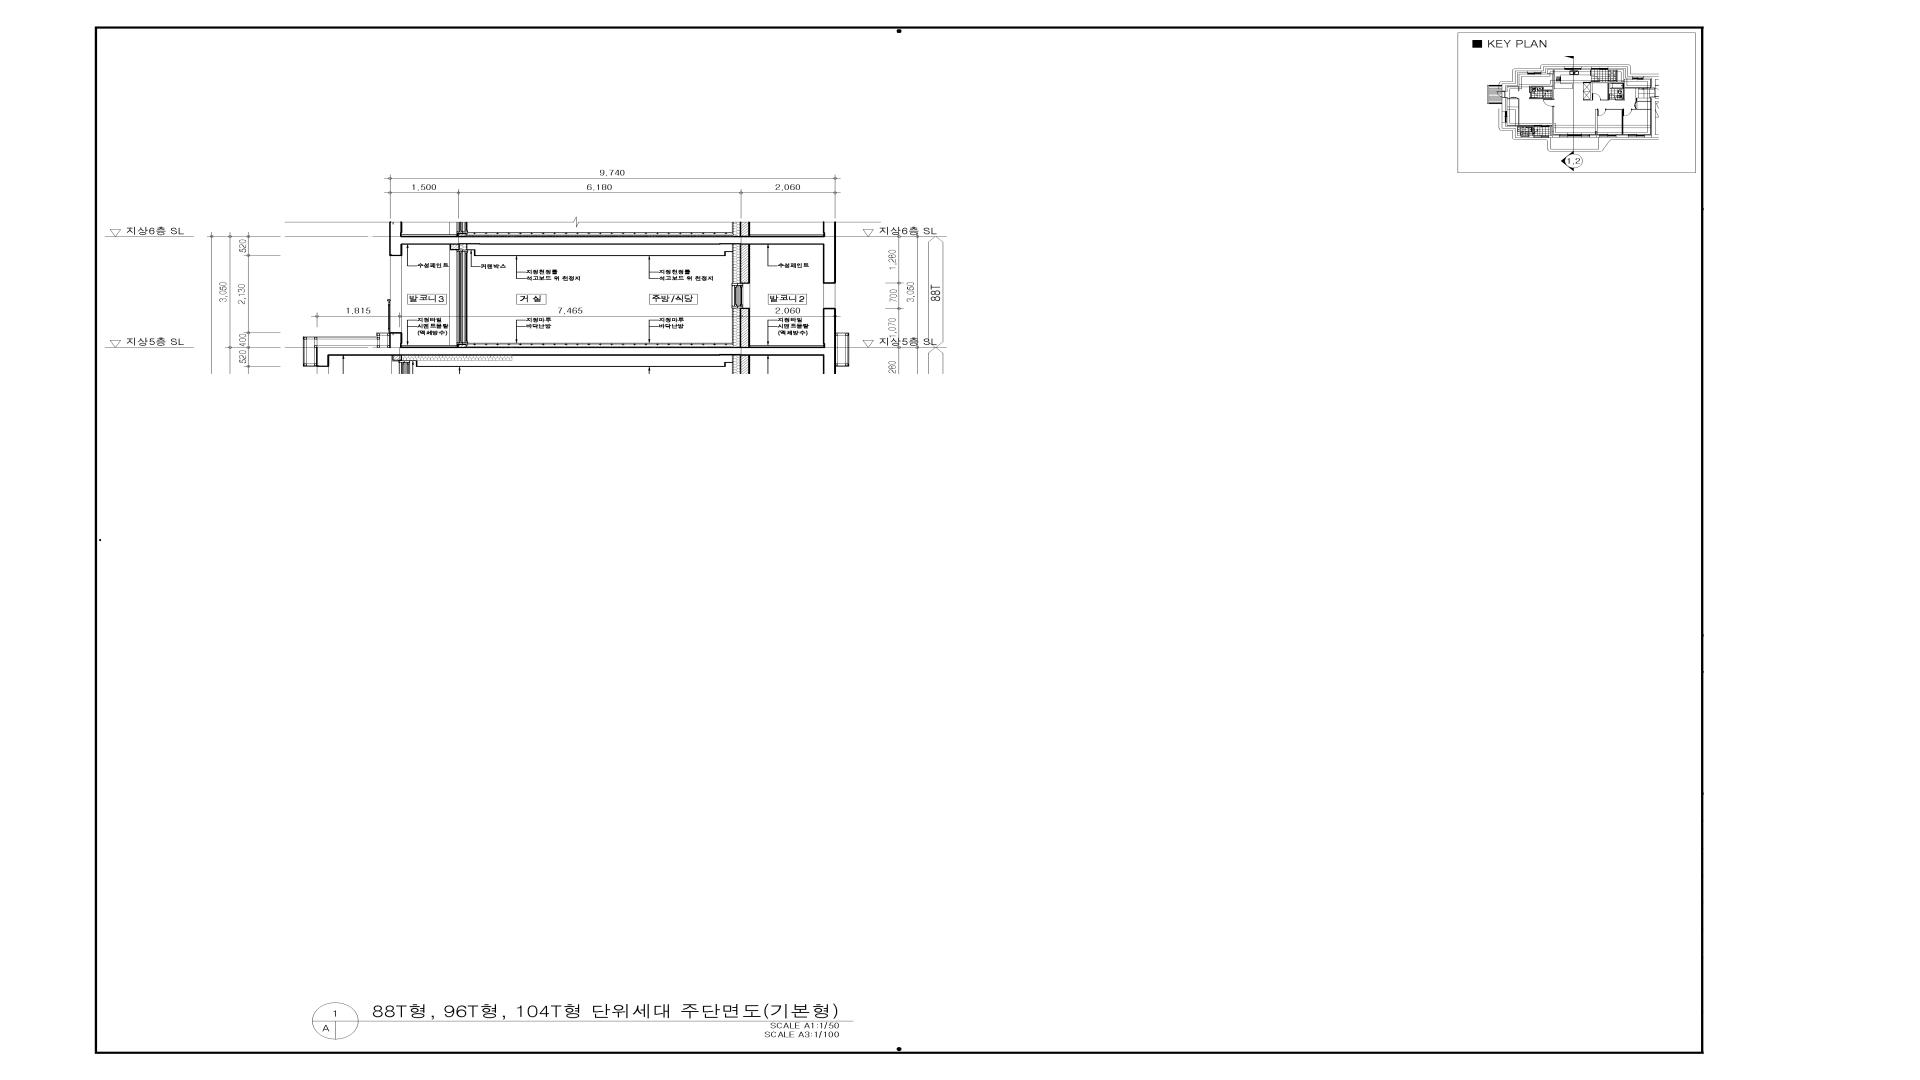wall: (316, 307, 836, 356), (389, 236, 836, 284), (741, 307, 750, 347), (741, 245, 750, 284), (450, 245, 459, 251), (456, 344, 468, 347)
window: (450, 251, 468, 345), (390, 256, 402, 332), (732, 284, 750, 307), (823, 284, 836, 307)
